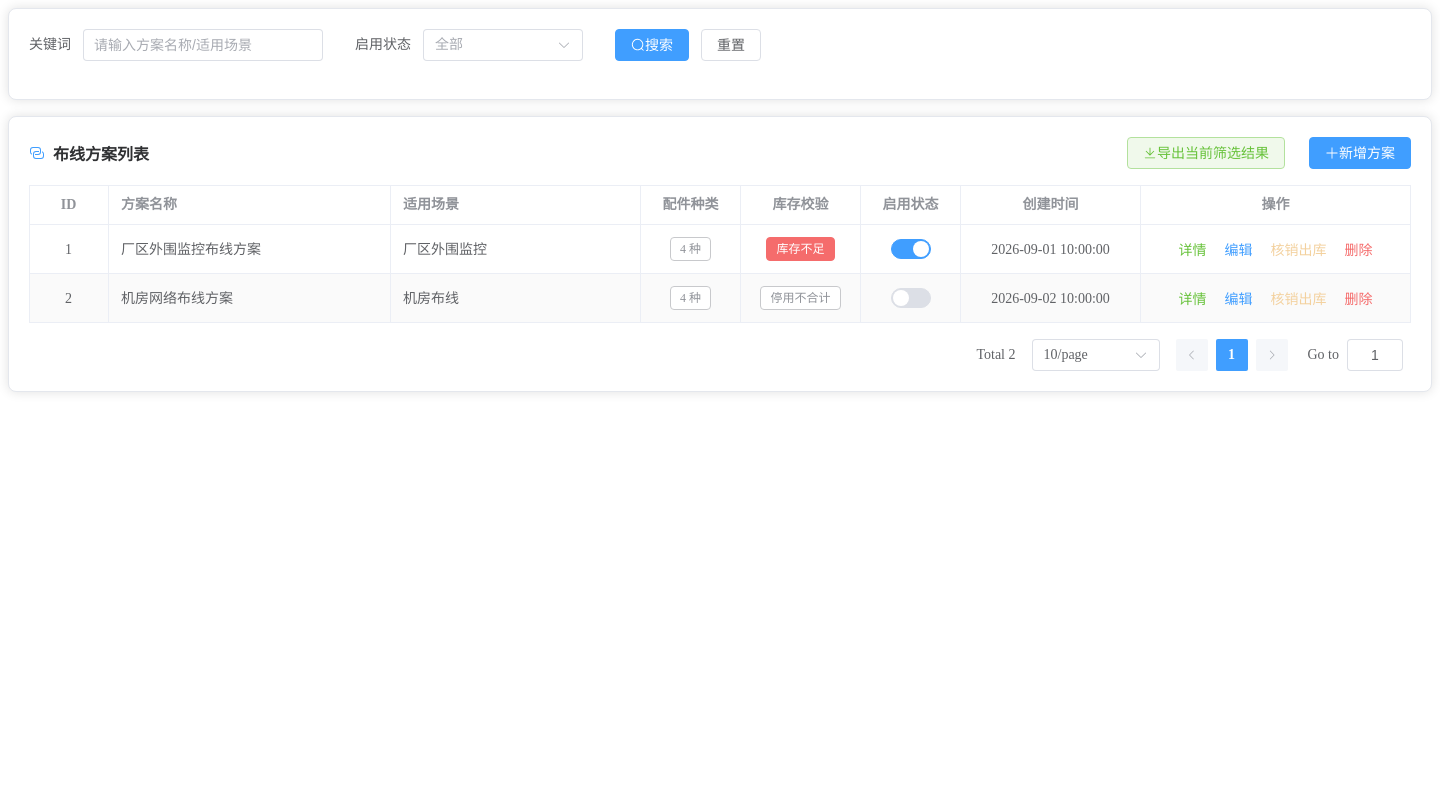
it: 布线方案详情 - 分区分组展示 › 分区分组按后端返回顺序渲染，未分配分区在最后
This screenshot has width=1440, height=810.
Click the button "详情" in the row of "厂区外围监控布线方案" at (1192,250), box [1176,240,1210,260]
(page scrolled)
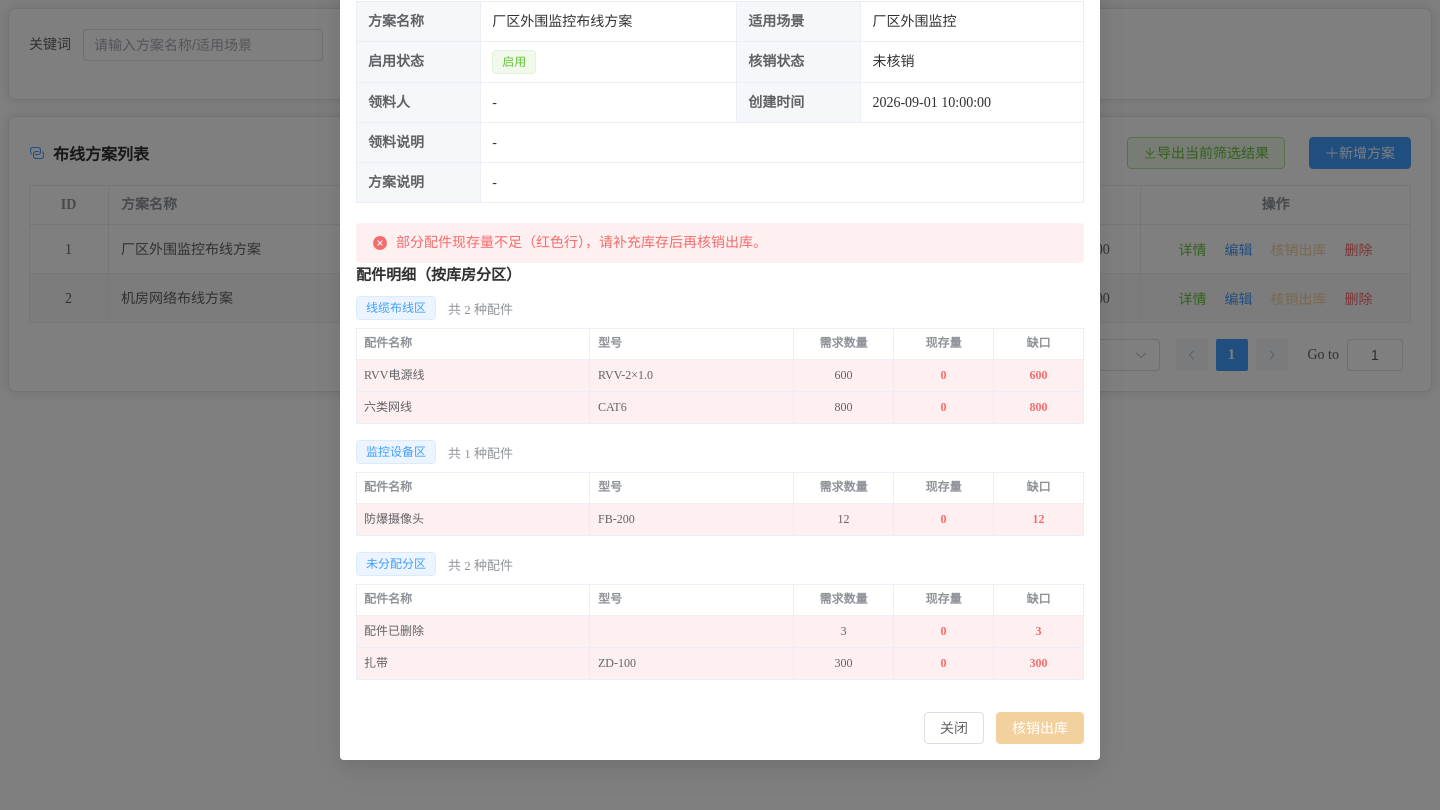
Now the element with class "zone-group" shows "配件已删除", box [364,624,424,638]
Now the element with class "zone-group" shows "扎带", box [364,656,388,670]
